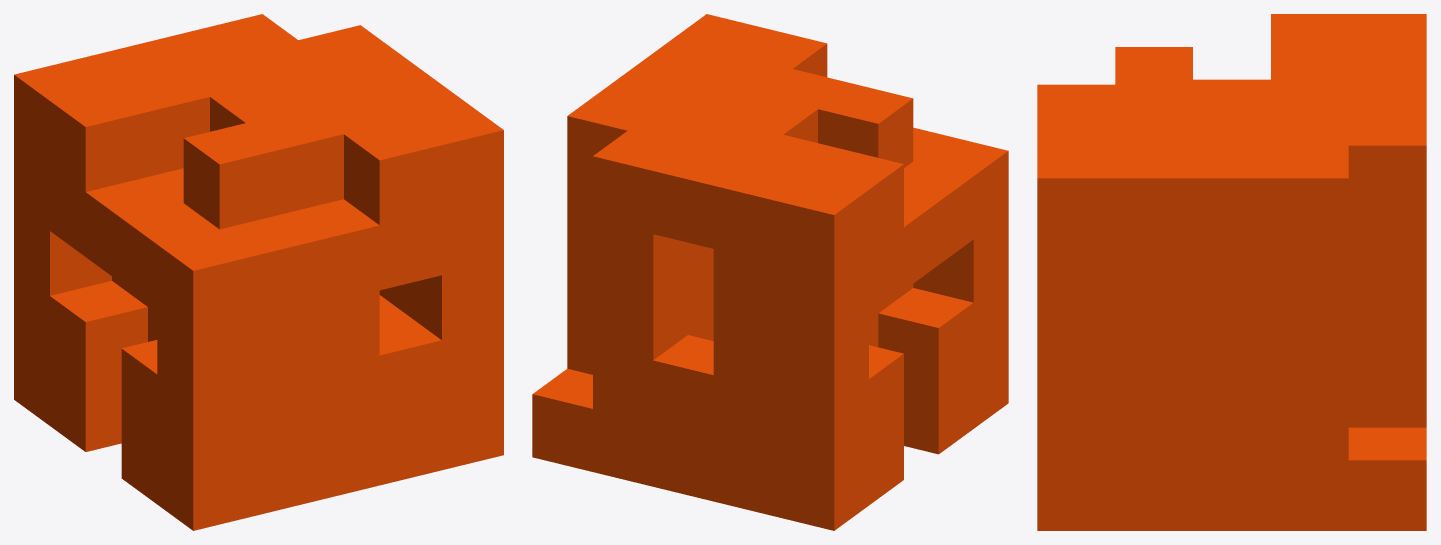
File: cristais-5.obj
3 views of the same model, side by side, from view 1: azimuth 30°, elevation 25°; view 2: azimuth 150°, elevation 25°; view 3: azimuth 270°, elevation 25° (orthographic). The views are drawn at different scales.
Size of the model in its own units: 0.5 by 0.5 by 0.5.
Materials: 1 (1 with a texture image).
